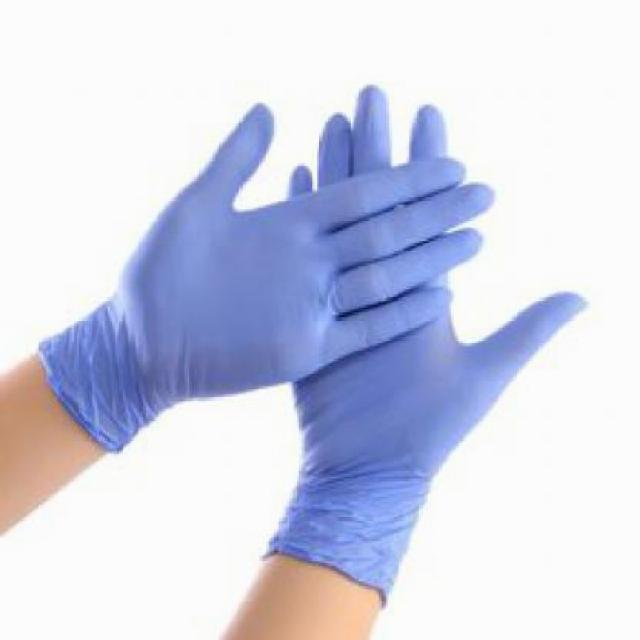glove: (238, 77, 610, 608), (31, 105, 498, 452)
